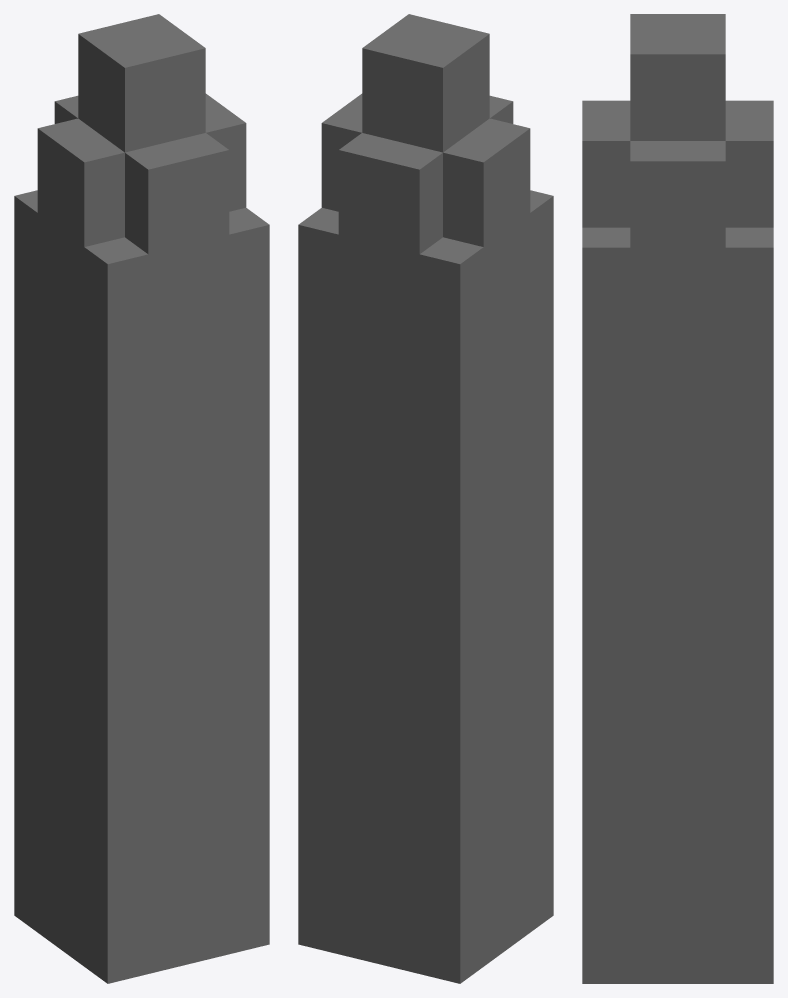
The model's file is AdvancedComCenterColumn.obj.
3 renders of one model, left to right at view 1: azimuth 30°, elevation 25°; view 2: azimuth 150°, elevation 25°; view 3: azimuth 270°, elevation 25°, orthographic. The views are drawn at different scales.
Size of the model in its own units: 0.4 by 2.1 by 0.4.
1 material, 1 textured.
